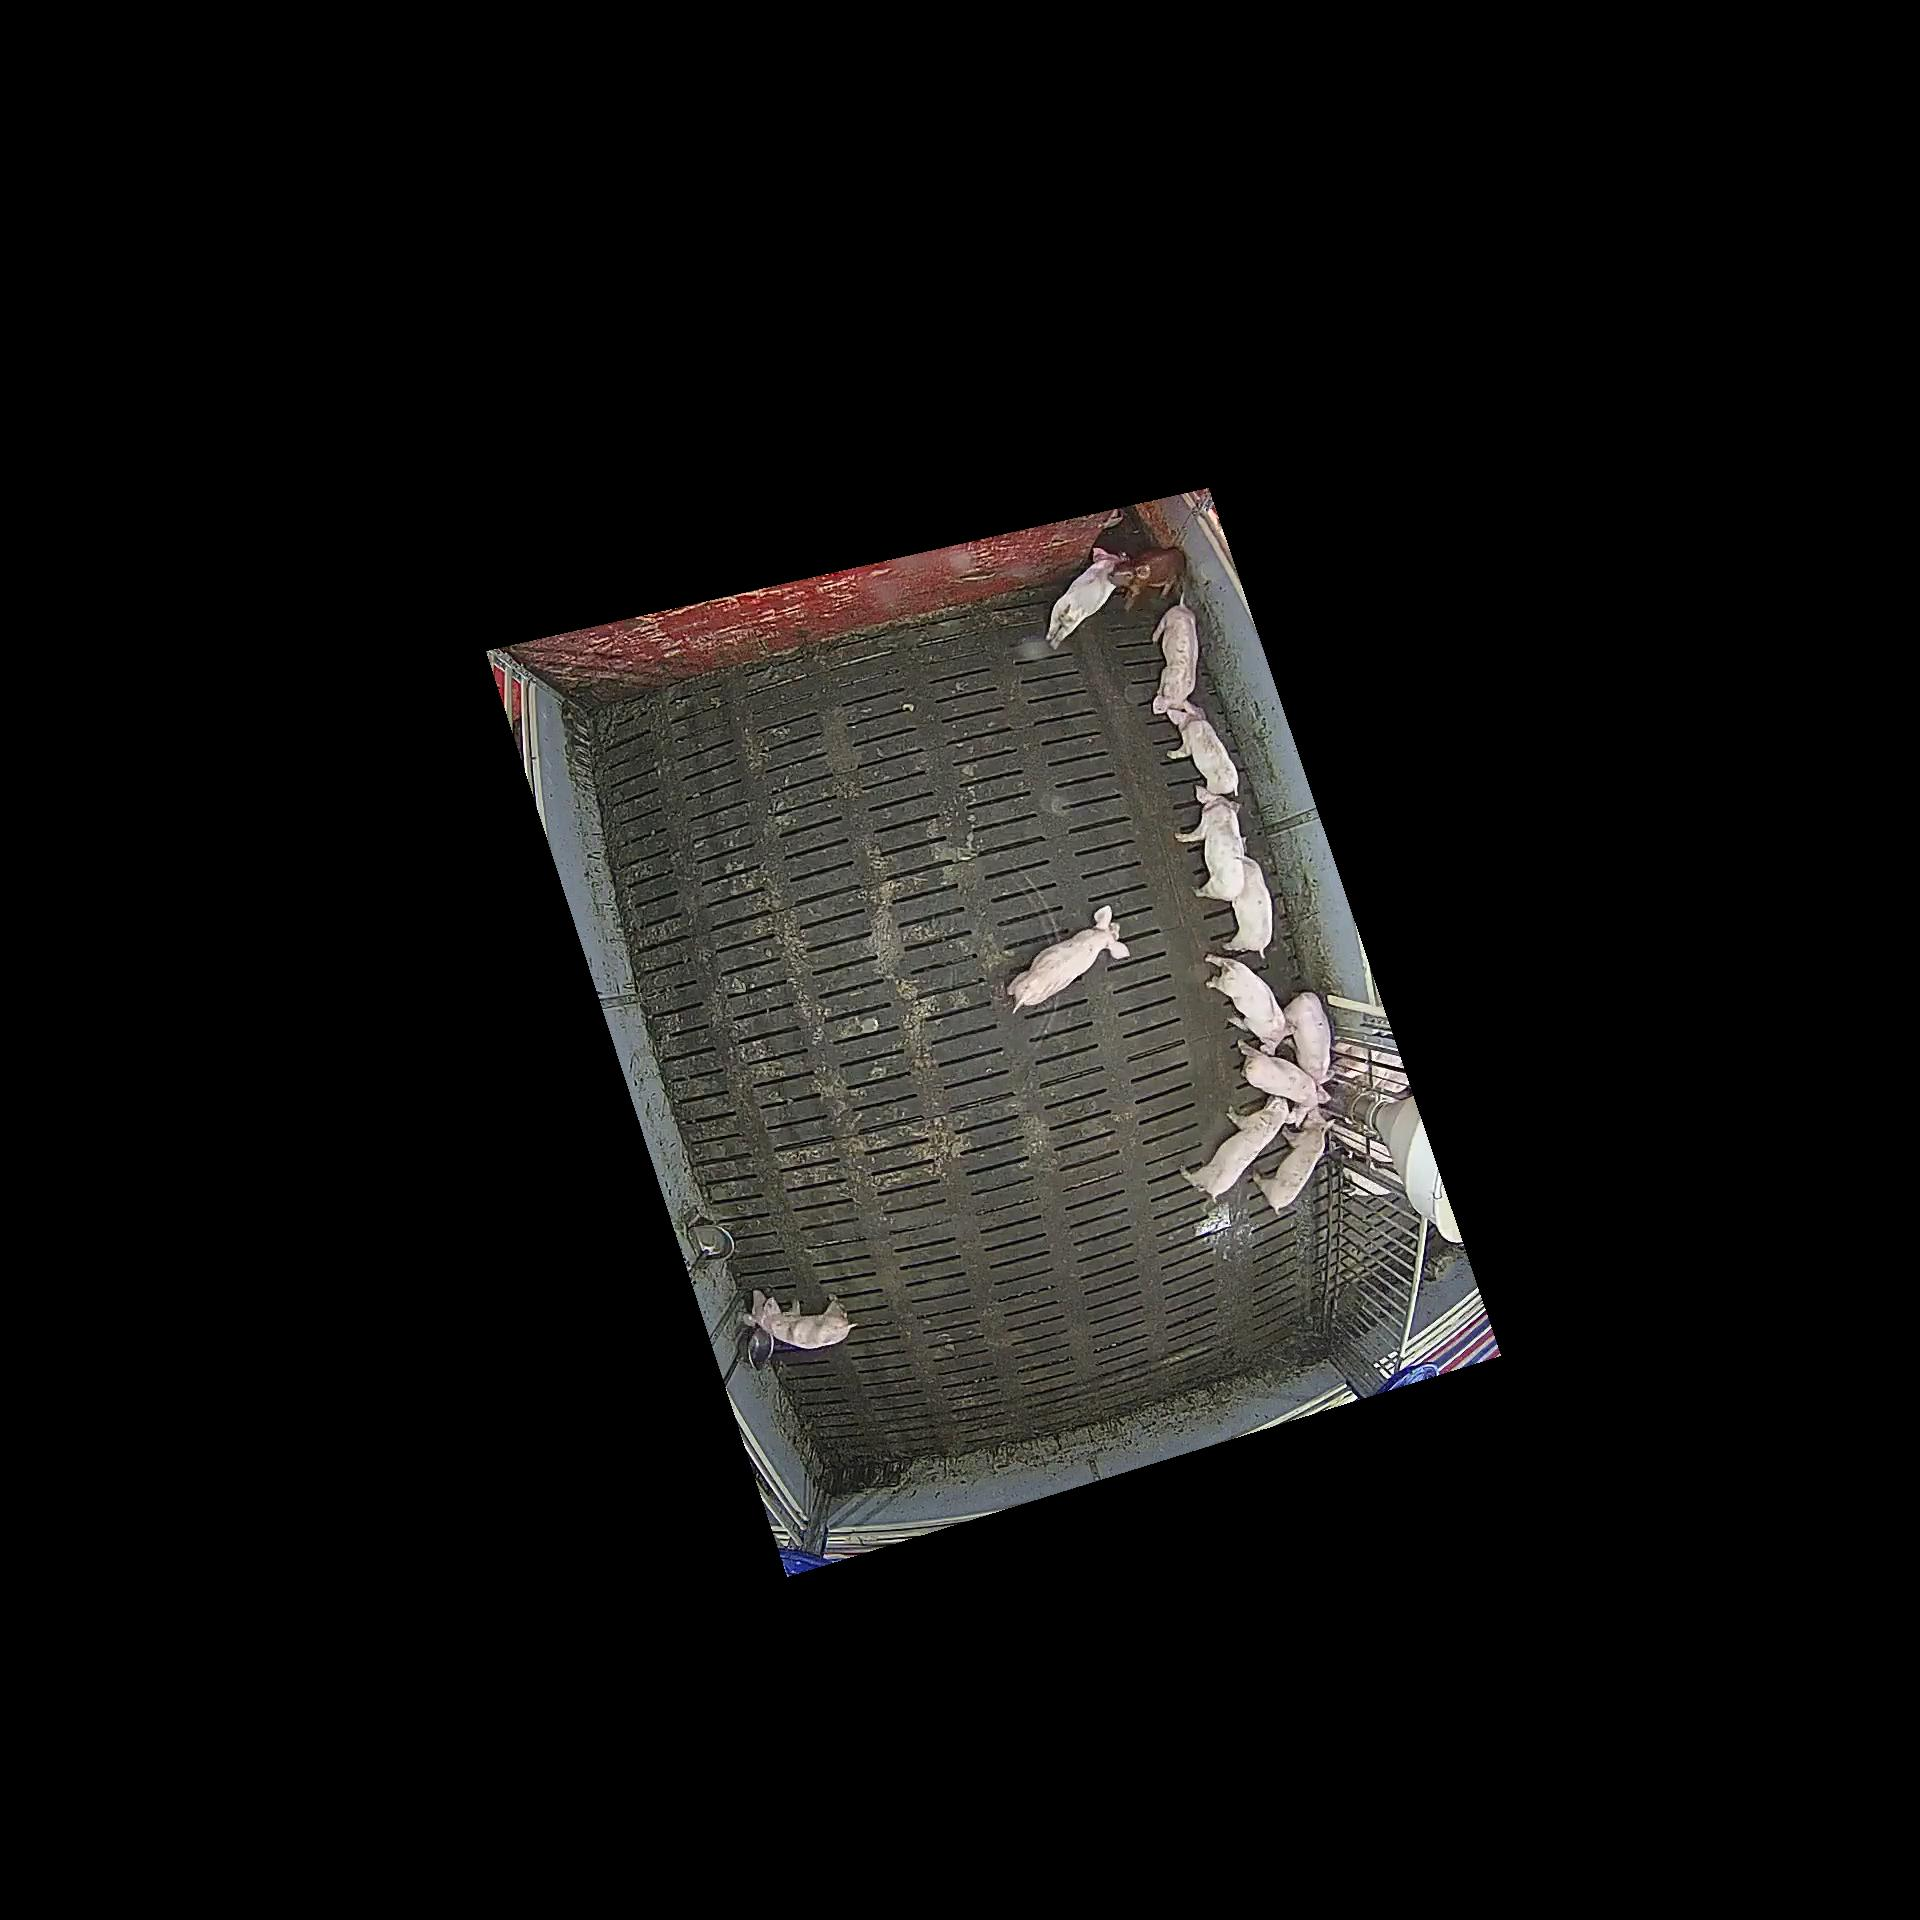pig: (1007, 905, 1129, 1015), (1180, 1095, 1296, 1201), (1204, 953, 1294, 1055), (1175, 784, 1245, 902), (1238, 1039, 1331, 1127), (1044, 549, 1124, 651), (1254, 1118, 1335, 1215), (744, 1289, 858, 1349), (1166, 707, 1240, 796), (1224, 839, 1275, 955), (1152, 591, 1199, 714), (1284, 992, 1331, 1083), (1109, 549, 1185, 598)
